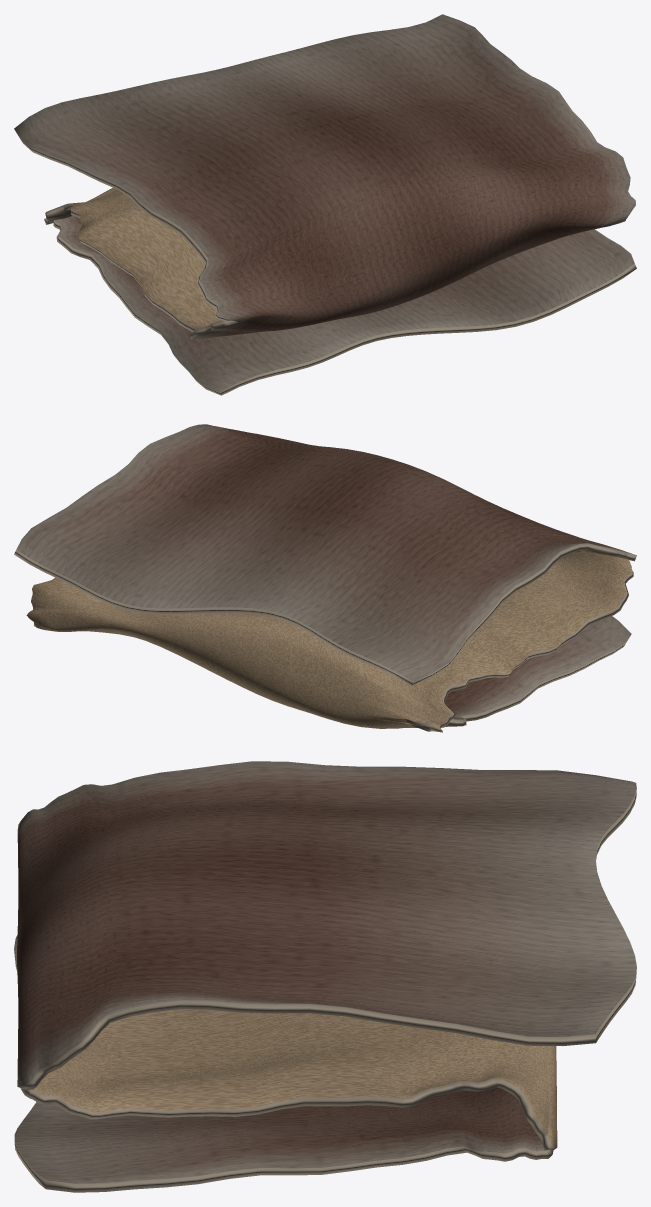
File: charhide.glb
3 views of the same model, one above another, from view 1: azimuth 30°, elevation 25°; view 2: azimuth 150°, elevation 25°; view 3: azimuth 270°, elevation 25° (orthographic). The views are drawn at different scales.
Visible parts, largest first — view 1: charhide supple outer surface, charhide rough suede reverse, charhide exposed cut fibers; view 2: charhide supple outer surface, charhide rough suede reverse, charhide exposed cut fibers; view 3: charhide supple outer surface, charhide rough suede reverse, charhide exposed cut fibers.
Part boxes in pixels (<box>): charhide supple outer surface: <box>14,14,635,391</box>; charhide rough suede reverse: <box>71,188,221,330</box>; charhide exposed cut fibers: <box>16,132,636,395</box>; charhide supple outer surface: <box>16,424,634,731</box>; charhide rough suede reverse: <box>26,549,631,729</box>; charhide exposed cut fibers: <box>14,424,636,732</box>; charhide supple outer surface: <box>14,761,636,1183</box>; charhide rough suede reverse: <box>31,1009,557,1148</box>; charhide exposed cut fibers: <box>14,788,636,1192</box>.
Size of the model in its own units: 0.5565 by 0.1858 by 0.4825.
Materials: 3 (2 with a texture image).
